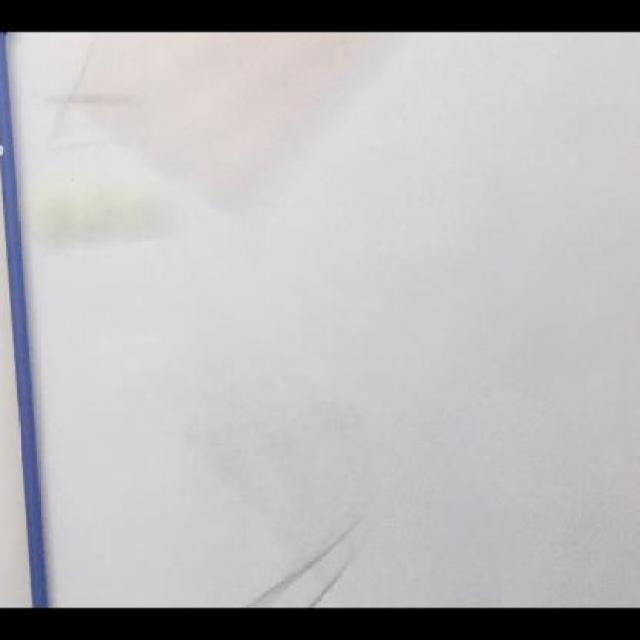baseball: (0, 192, 134, 255)
